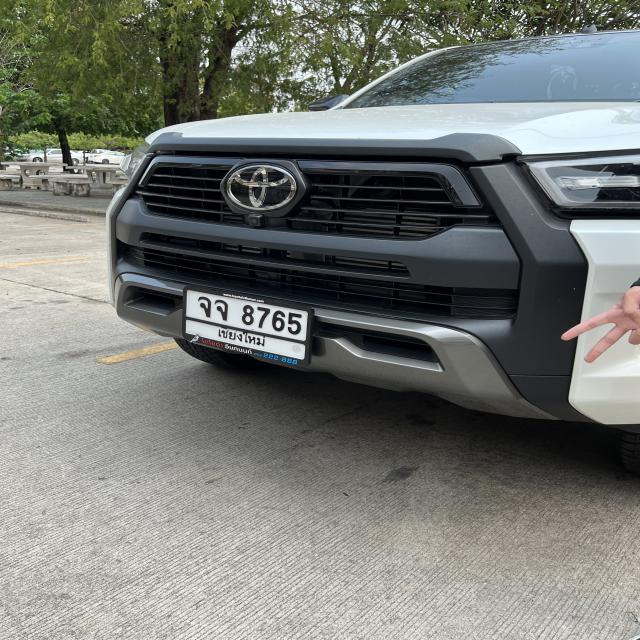license_plate: (178, 282, 318, 371)
